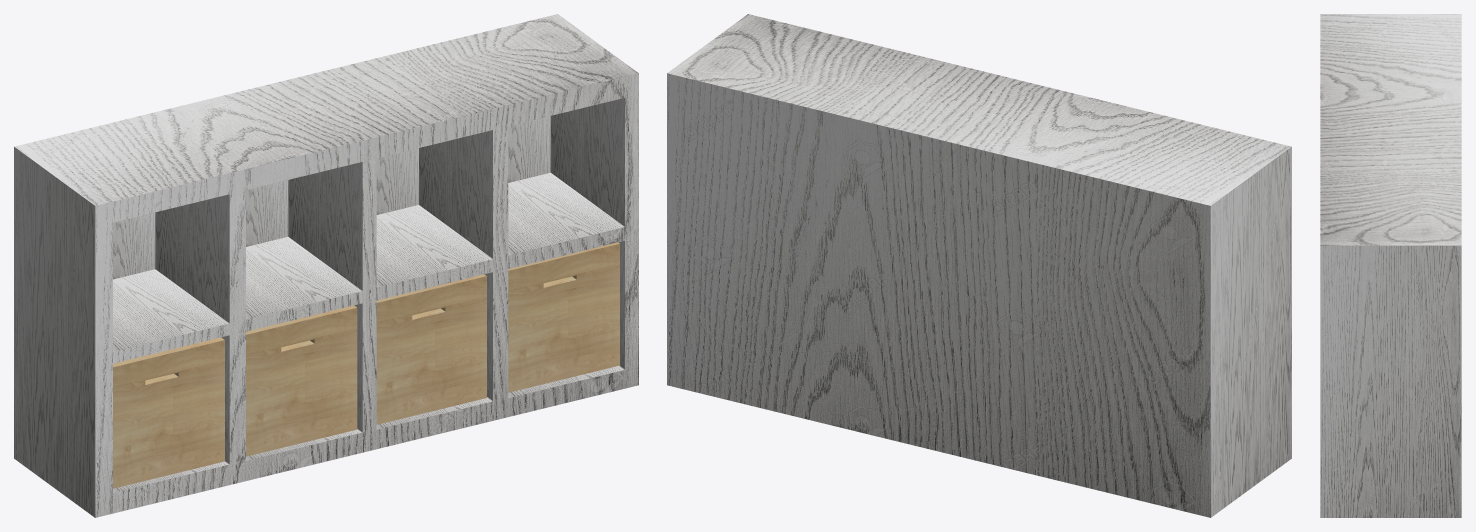
File: shelveshelving_units.glb
The picture shows the model from 3 angles, left to right: view 1: azimuth 30°, elevation 25°; view 2: azimuth 150°, elevation 25°; view 3: azimuth 270°, elevation 25°; orthographic projection. The views are drawn at different scales.
Parts seen in each view (by area): view 1: Box001, Box010, Box007, Box009, Box008; view 2: Box001; view 3: Box001.
Part boxes in pixels (x1,y1,x2,y2): Box001: (14, 14, 638, 517); Box010: (113, 337, 224, 488); Box007: (246, 305, 357, 456); Box009: (508, 242, 619, 392); Box008: (376, 274, 486, 424); Box001: (667, 14, 1291, 517); Box001: (1320, 14, 1461, 517).
Bounding box in the file's own units: 43.12 × 23.65 × 11.13.
2 materials, 2 textured.
